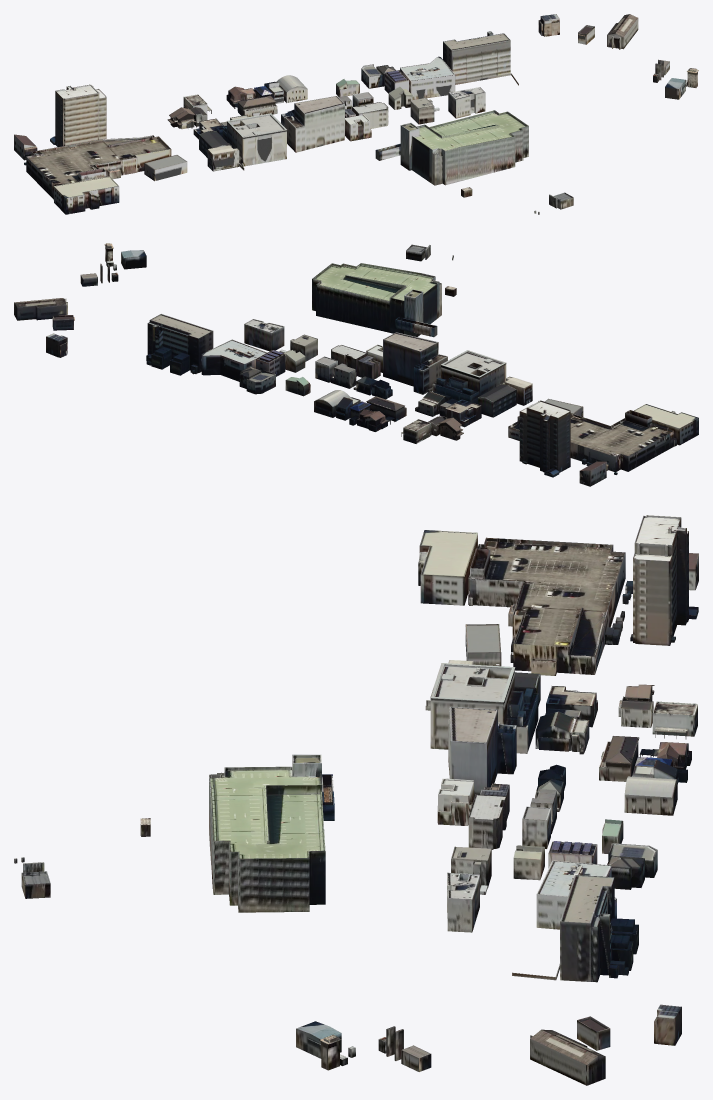
File: lod3-station-8-2-packed.glb
3 views of the same model, one above another, from view 1: azimuth 30°, elevation 25°; view 2: azimuth 150°, elevation 25°; view 3: azimuth 270°, elevation 25° (orthographic). The views are drawn at different scales.
Size of the model in its own units: 379 by 36.25 by 208.
Materials: 6 (5 with a texture image).
